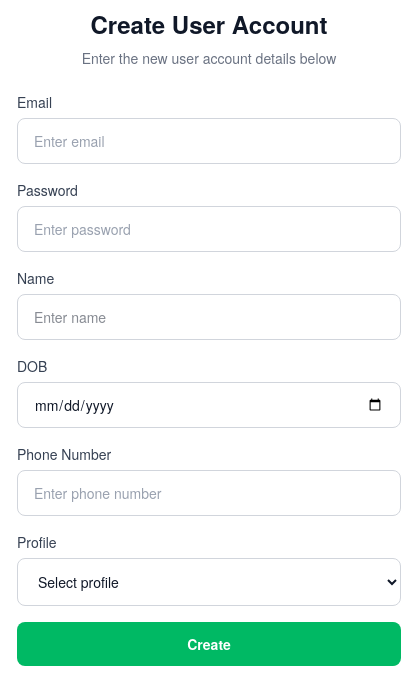
Test: CreateAccountPage › blocks submission when email format is invalid
Type "not-an-email" into the field labelled "Email". click: (209, 141)
box: [17,118,401,164]
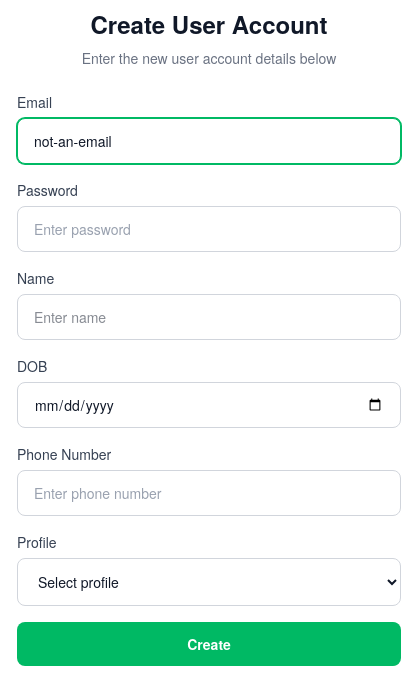
Click the button "Create". click: (209, 644)
box: [17,622,401,666]
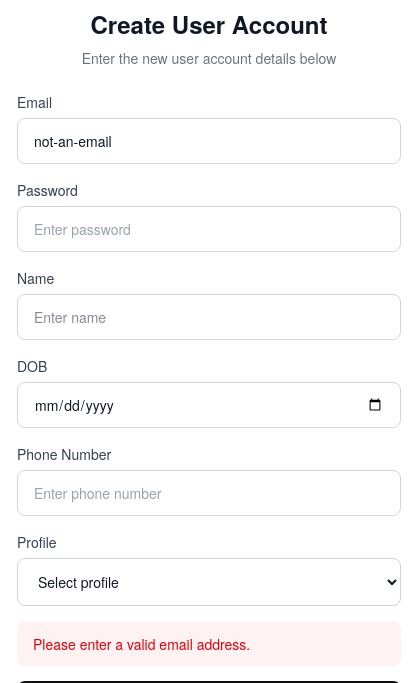
Expected: the text "Please enter a valid email address." is shown, [33,634,250,654]
